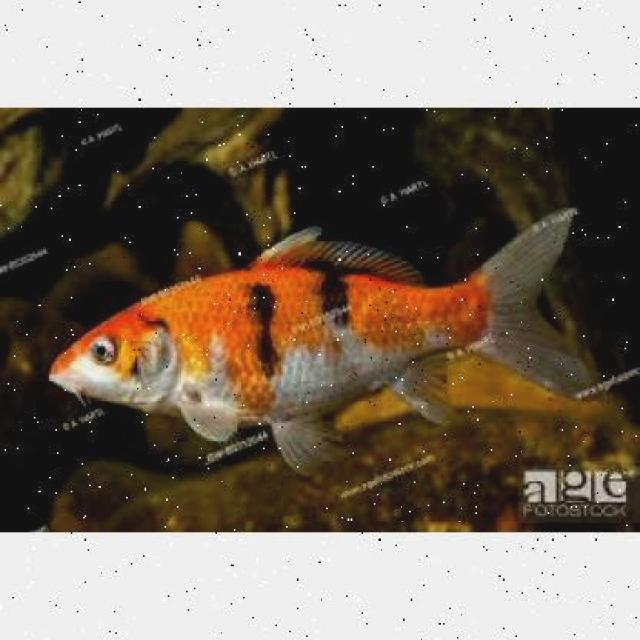ikan-mas: (49, 202, 591, 460)
